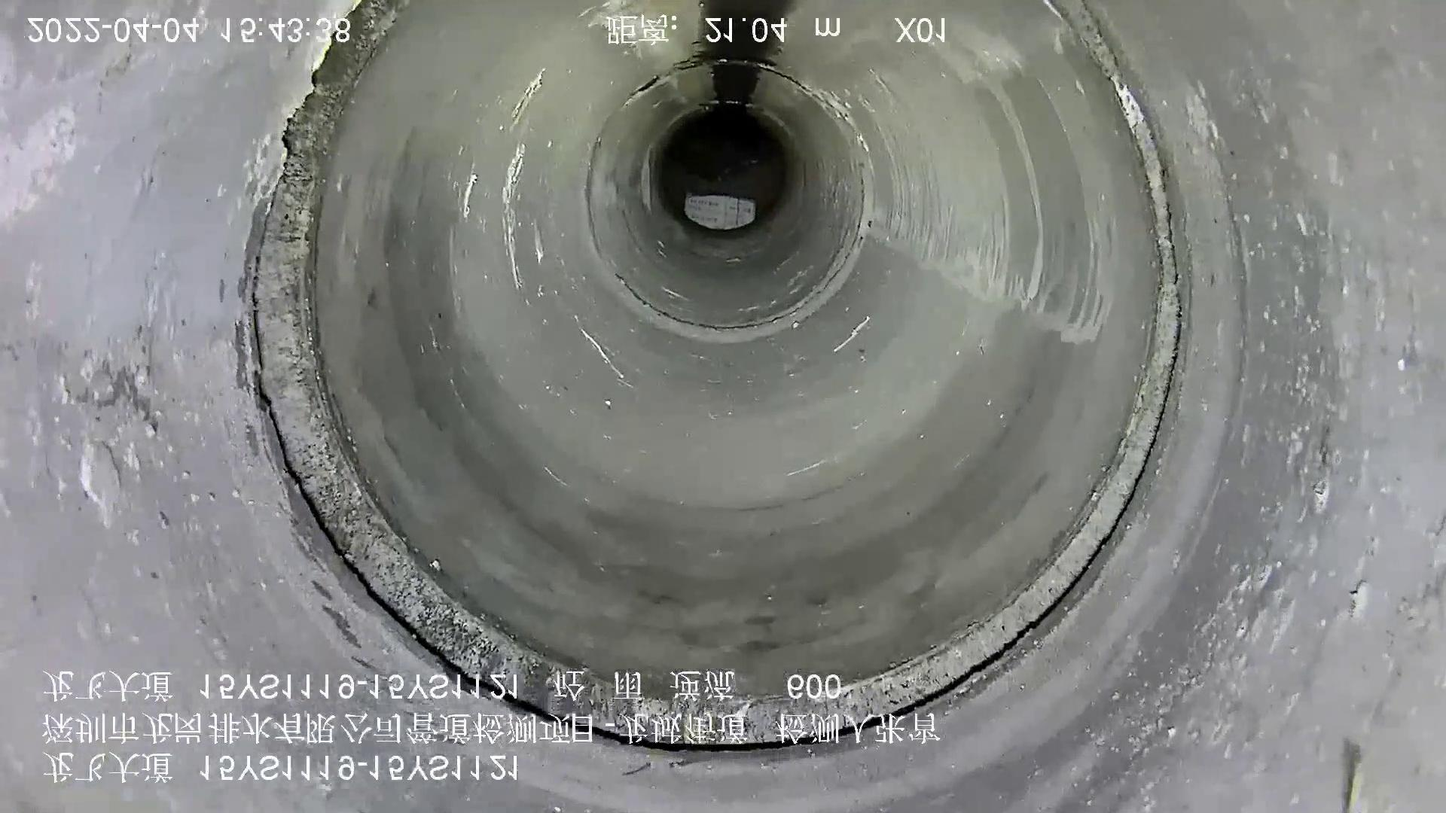CKTJ: (251, 1, 1182, 751)
